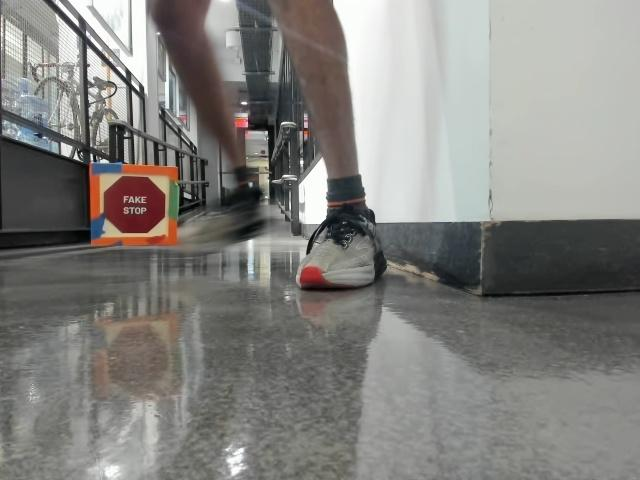Fake Stop: (102, 175, 164, 233)
